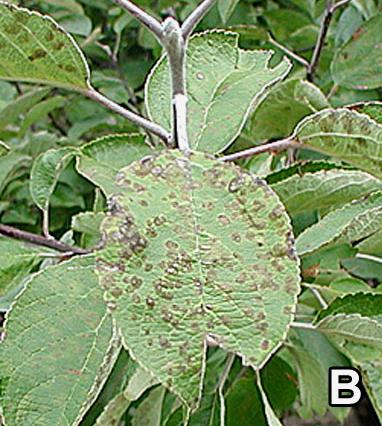Apple Scab Leaf: (92, 135, 313, 410)
